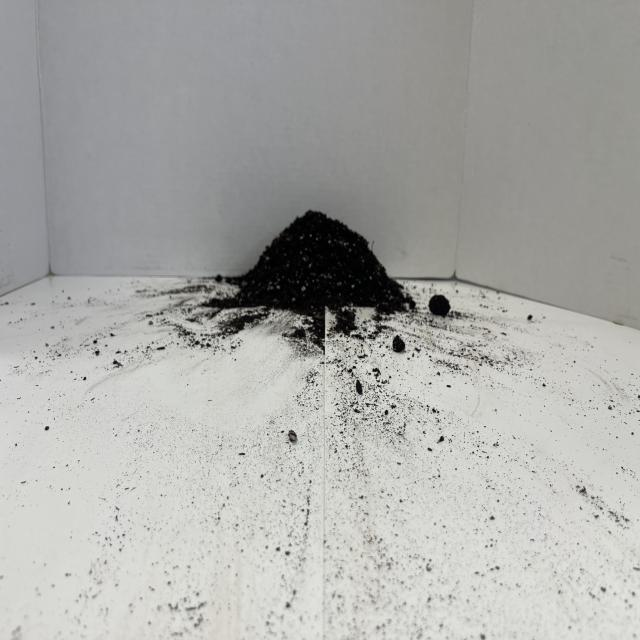soil: (208, 206, 416, 344)
